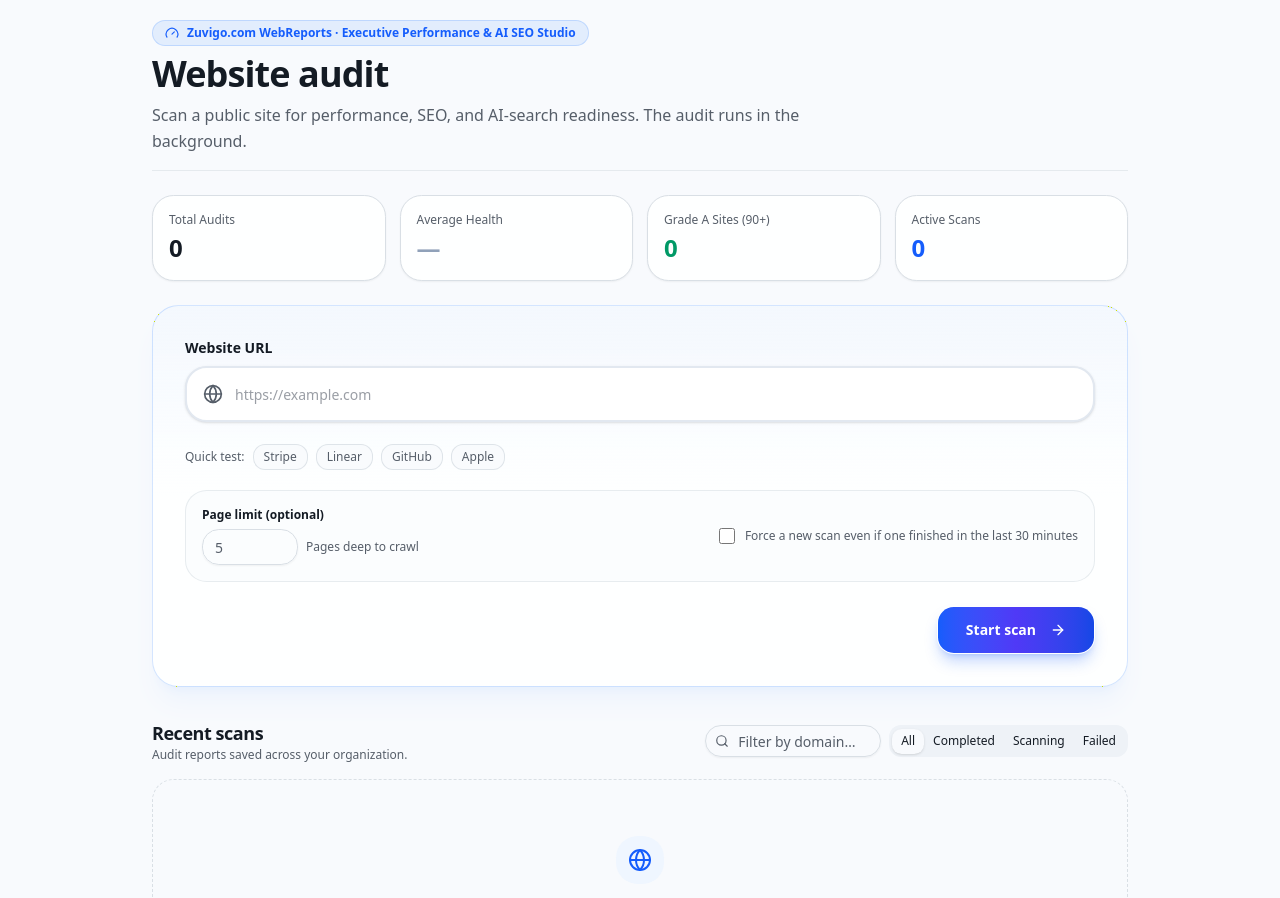
website audit home › shows a failed submit
The width and height of the screenshot is (1280, 898).
Type "https://example.com/" into the field labelled "Website URL". click: coordinates (640, 394)
box: x1=187 y1=368 x2=1093 y2=420
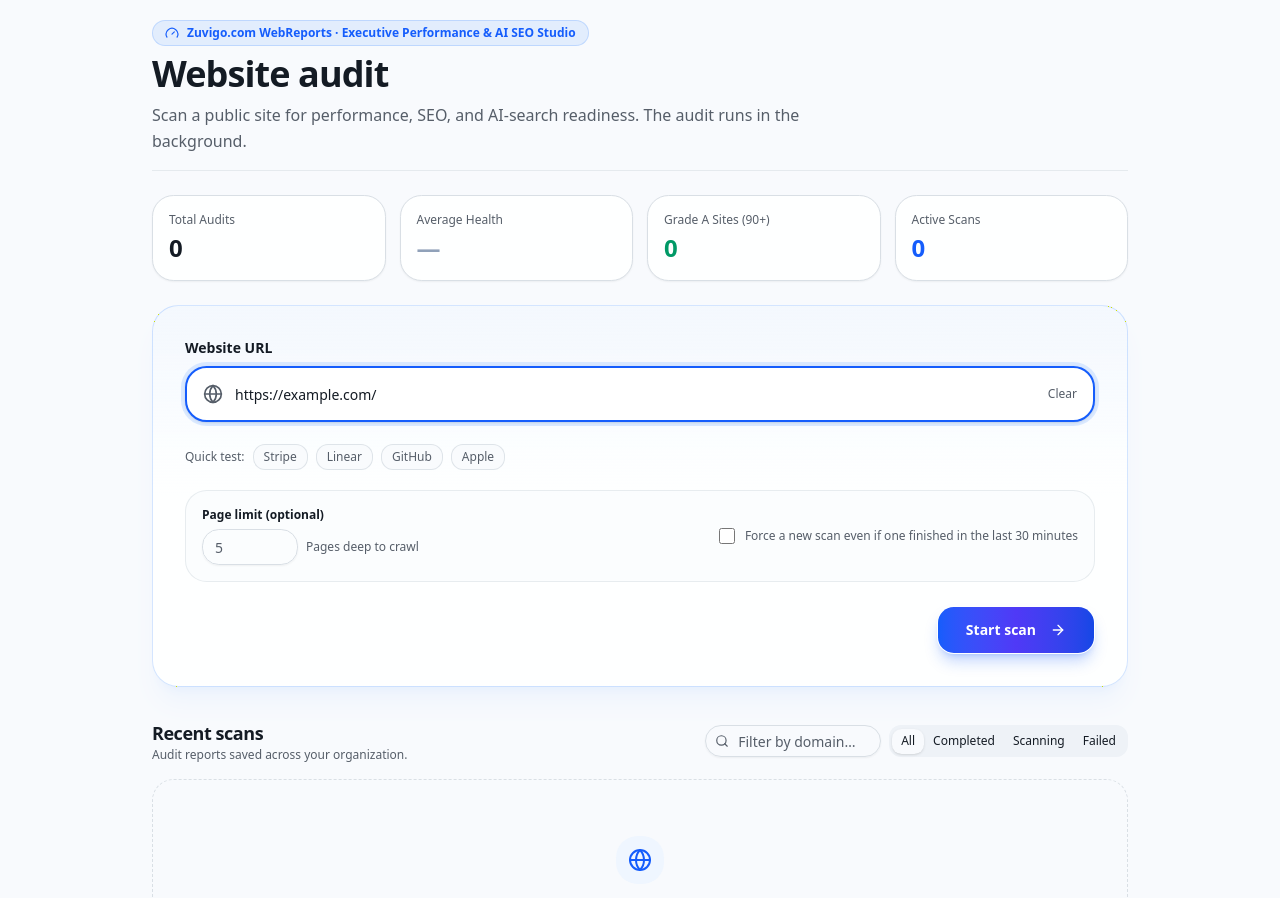
Click the button "Start scan". click: coordinates (1016, 630)
box: x1=937 y1=606 x2=1095 y2=654
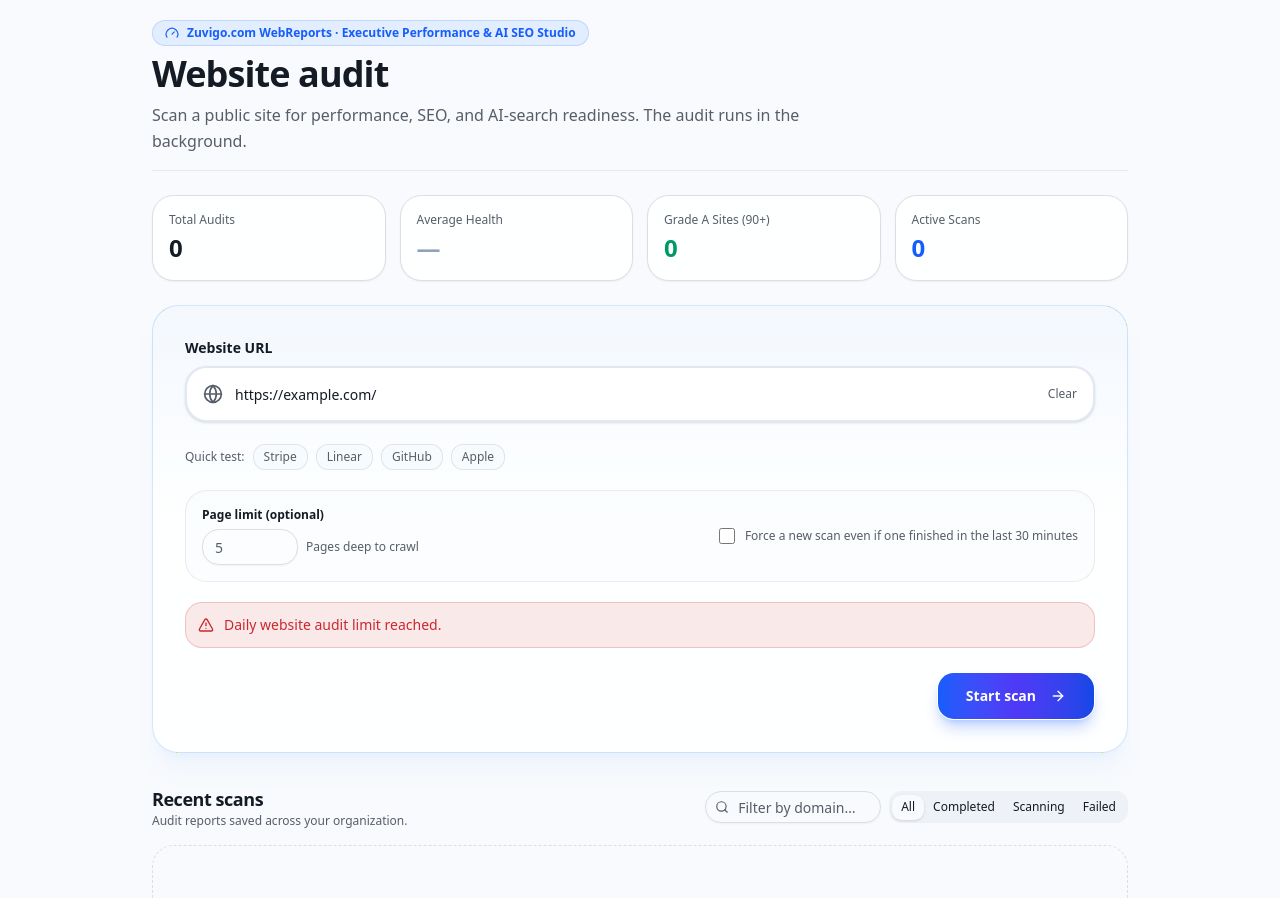
Now the message reads "Daily website audit limit reached.", box x1=224 y1=615 x2=441 y2=634
